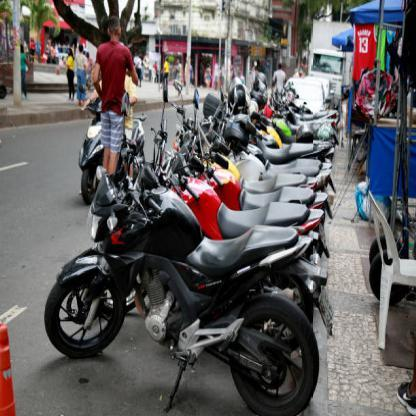Motorcycle: (37, 166, 321, 408)
